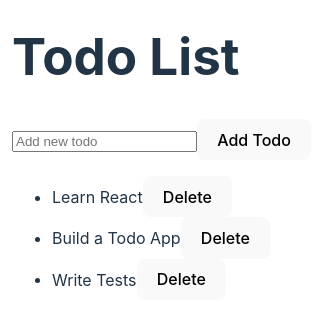
Scenario: TodoList › adds a new todo
The width and height of the screenshot is (332, 326).
Type "New Todo Item" into the field with placeholder "Add new todo".
click(104, 141); type("New Todo Item")  # box x1=12 y1=131 x2=197 y2=152
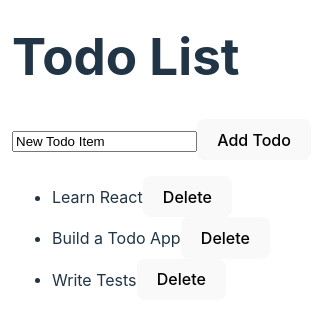
Click the button "Add Todo".
click(254, 140)  # box x1=197 y1=119 x2=311 y2=160
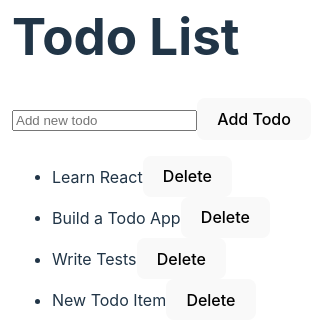
Now the text "New Todo Item" is shown, box x1=52 y1=290 x2=166 y2=310
Now the field with placeholder "Add new todo" is empty, box x1=12 y1=110 x2=197 y2=131
